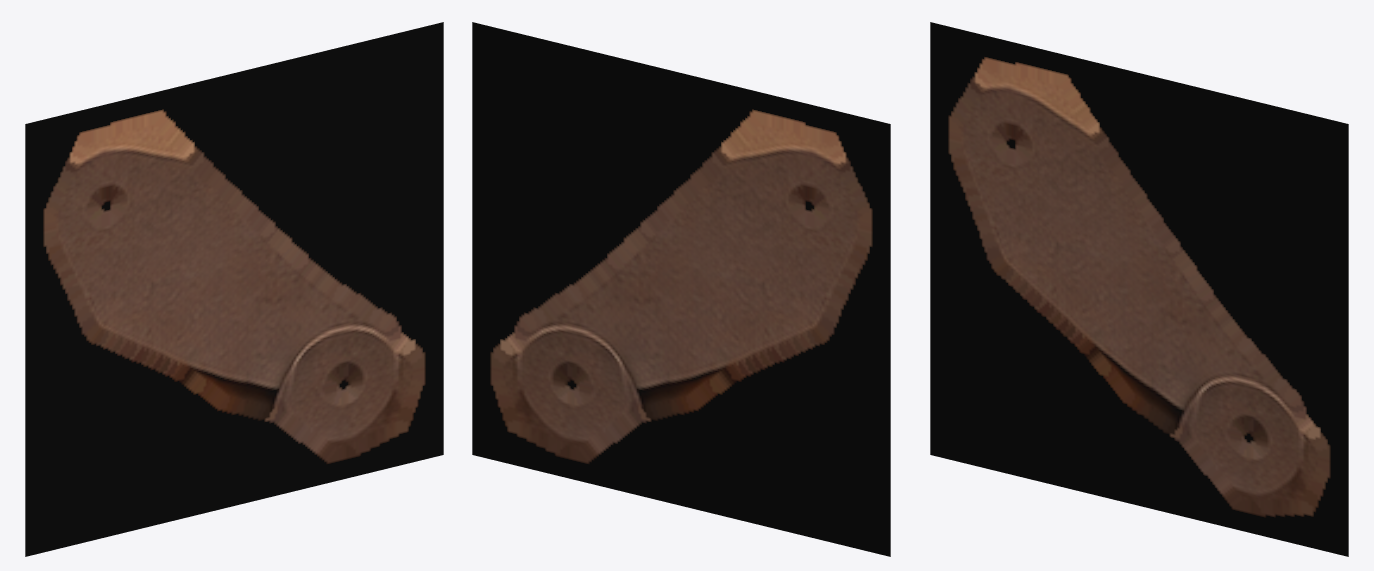
The model's file is Variant05Upper.glb.
3 renders of one model, left to right at view 1: azimuth 30°, elevation 25°; view 2: azimuth 150°, elevation 25°; view 3: azimuth 330°, elevation 25°, orthographic.
Parts seen in each view (by area): view 1: PaperVolume; view 2: PaperVolume; view 3: PaperVolume.
Boxes of the visible parts, left/top/right/bottom form: PaperVolume: left=25, top=22, right=443, bottom=556; PaperVolume: left=472, top=22, right=890, bottom=556; PaperVolume: left=930, top=22, right=1348, bottom=556.
Size of the model in its own units: 1.76 by 1.74 by 0.08.
Materials: 3 (2 with a texture image).
